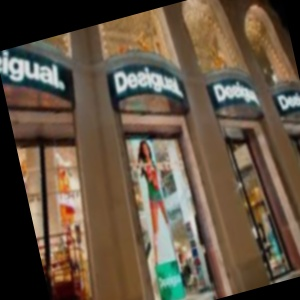desigual: (37, 31, 300, 210), (92, 18, 300, 155), (121, 15, 232, 89), (75, 72, 83, 77)
